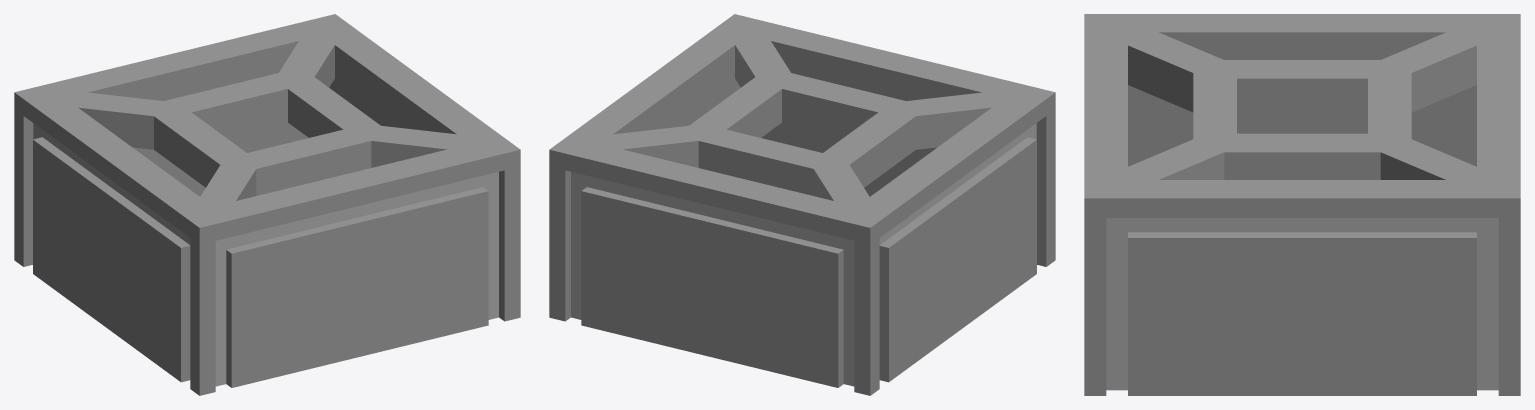
File: stone_tile2.fbx
3 views of the same model, side by side, from view 1: azimuth 30°, elevation 25°; view 2: azimuth 150°, elevation 25°; view 3: azimuth 270°, elevation 25° (orthographic). The views are drawn at different scales.
Visible parts, largest first — view 1: Mesh; view 2: Mesh; view 3: Mesh.
Boxes of the visible parts, x1,y1,x2,y2 form: Mesh: (14, 14, 520, 395); Mesh: (549, 14, 1055, 395); Mesh: (1084, 14, 1520, 395).
Size of the model in its own units: 1 by 0.5 by 1.
